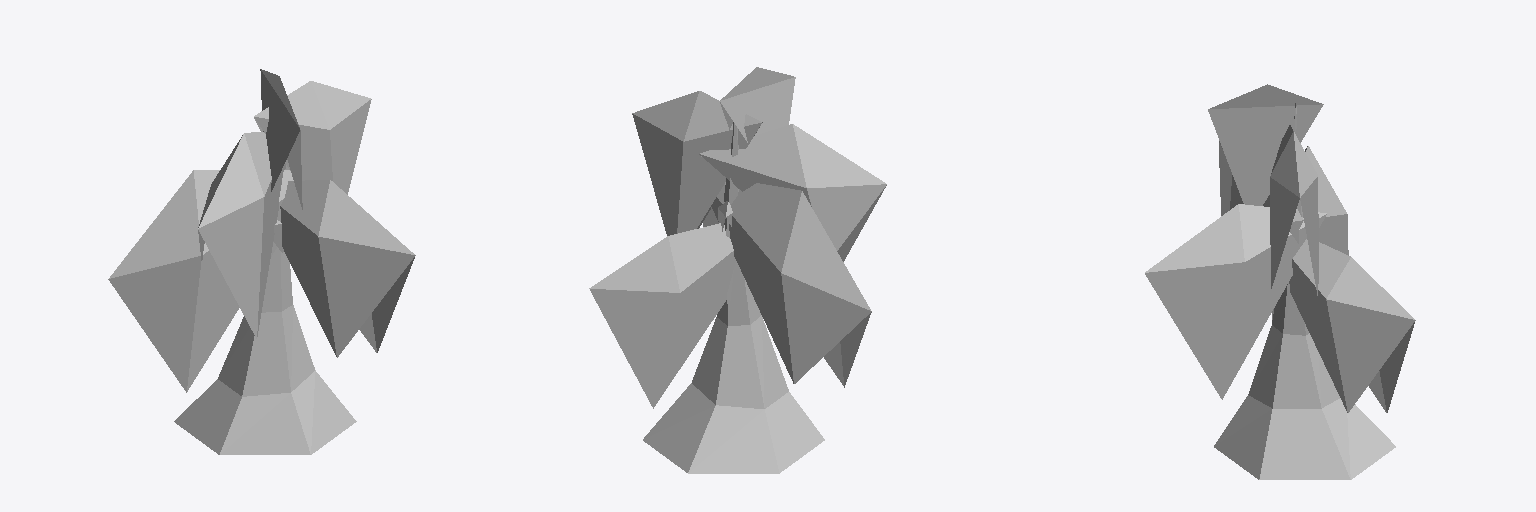
The model's file is swampsorrowtree01.obj.
3 views of the same model, side by side, from view 1: azimuth 30°, elevation 25°; view 2: azimuth 150°, elevation 25°; view 3: azimuth 270°, elevation 25° (orthographic).
Parts seen in each view (by area): view 1: SwampSorrowTree01; view 2: SwampSorrowTree01; view 3: SwampSorrowTree01.
Part boxes in pixels (x1,y1,x2,y2): SwampSorrowTree01: (108, 69, 415, 454); SwampSorrowTree01: (589, 67, 886, 473); SwampSorrowTree01: (1145, 84, 1415, 479).
Bounding box in the file's own units: 24.23 × 33.16 × 22.64.